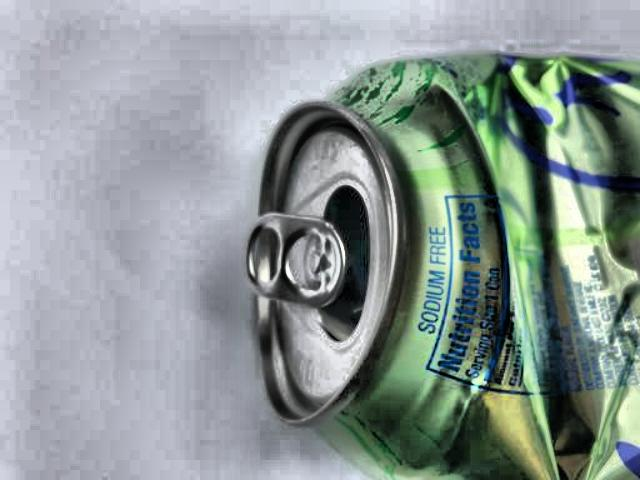Bottles: (214, 16, 640, 480)
